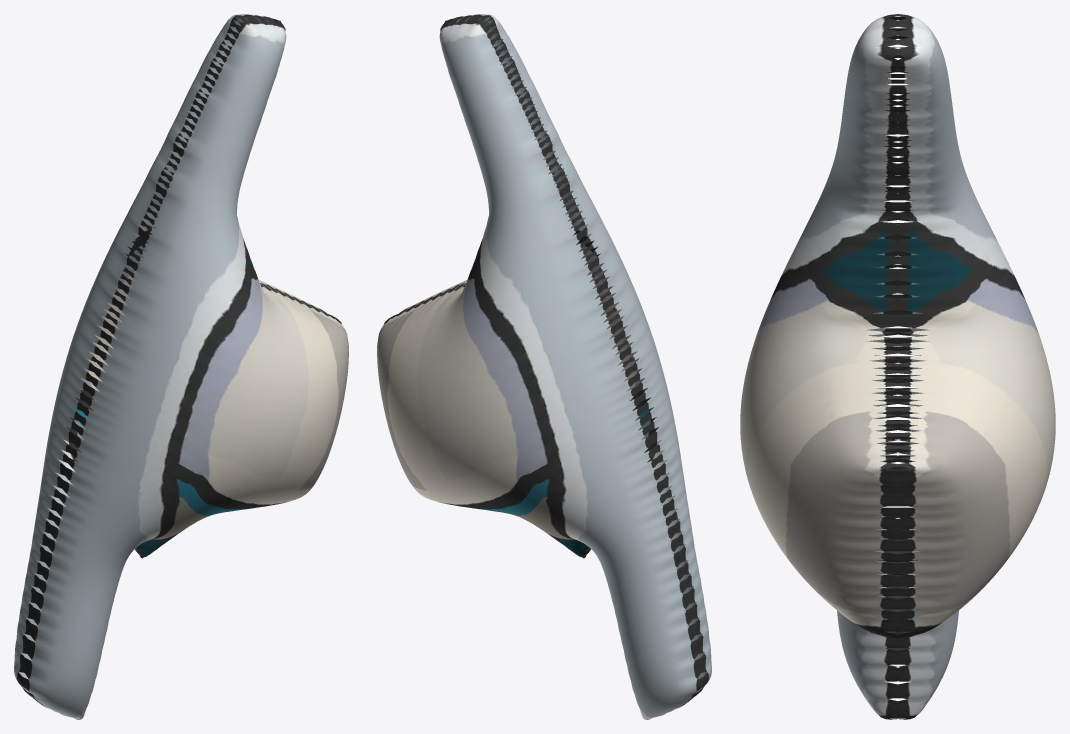
Rendered from wall_bracket.glb.
3 renders of one model, left to right at view 1: azimuth 30°, elevation 25°; view 2: azimuth 150°, elevation 25°; view 3: azimuth 270°, elevation 25°, orthographic. The views are drawn at different scales.
Visible parts, largest first — view 1: wall_bracket; view 2: wall_bracket; view 3: wall_bracket.
Part boxes in pixels (x1,y1,x2,y2): wall_bracket: (14, 14, 348, 719); wall_bracket: (377, 14, 711, 719); wall_bracket: (740, 14, 1055, 719).
Size of the model in its own units: 0.977 by 1.94 by 0.6906.
Materials: 1 (1 with a texture image).
